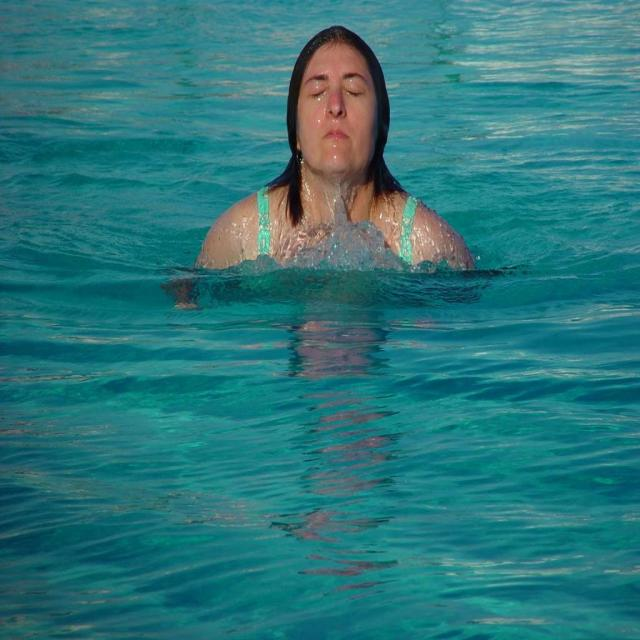Face: (292, 43, 392, 186)
